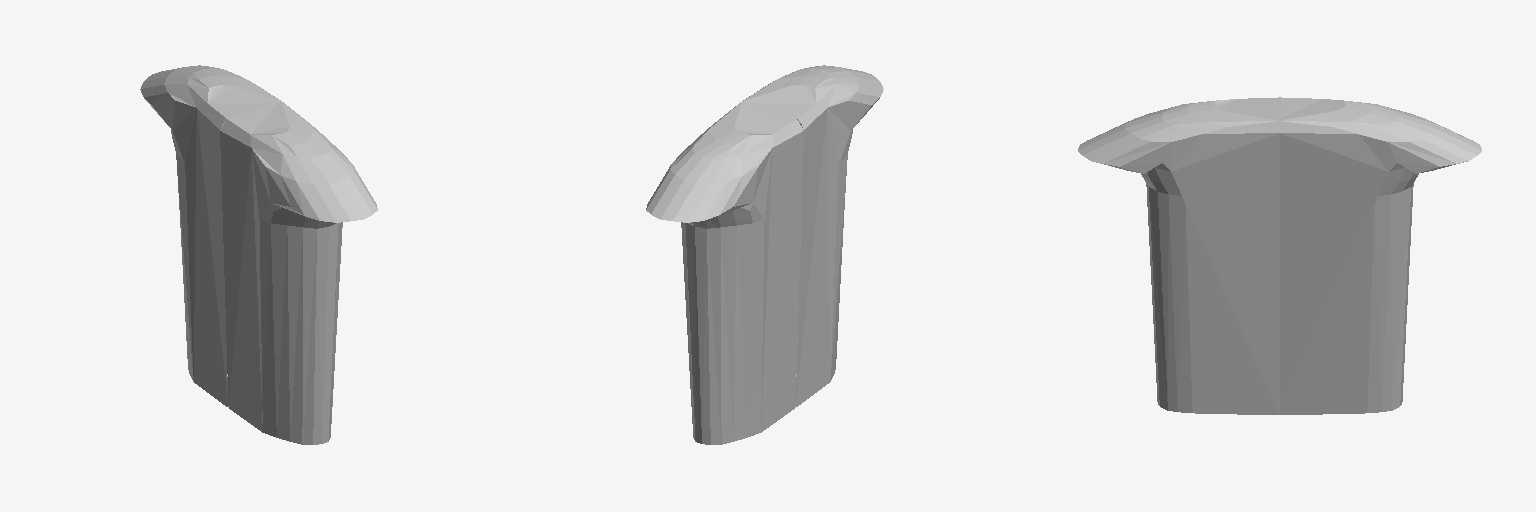
Rendered from torso.obj.
The picture shows the model from 3 angles: view 1: azimuth 30°, elevation 25°; view 2: azimuth 150°, elevation 25°; view 3: azimuth 270°, elevation 25°; orthographic projection.
Visible parts, largest first — view 1: Cylinder; view 2: Cylinder; view 3: Cylinder.
Part boxes in pixels (x1,y1,x2,y2): Cylinder: (140,65,377,444); Cylinder: (646,65,883,444); Cylinder: (1078,97,1481,414).
Size of the model in its own units: 0.6408 by 2.52 by 3.12.